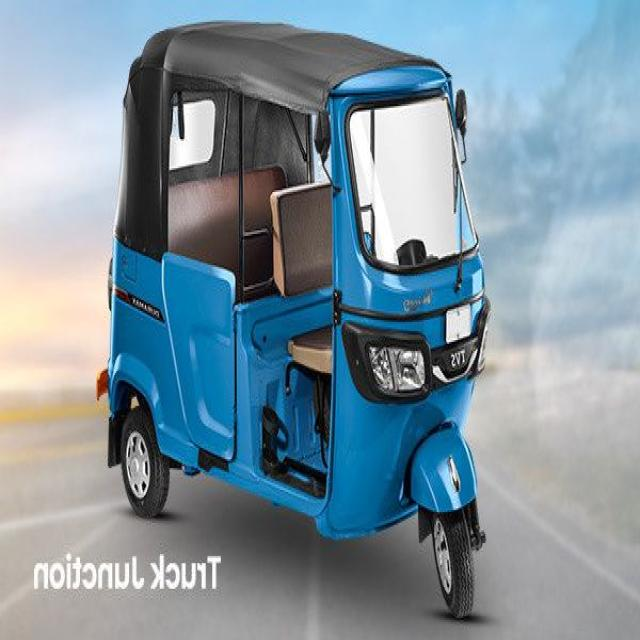autorickshaw: (99, 21, 490, 616)
